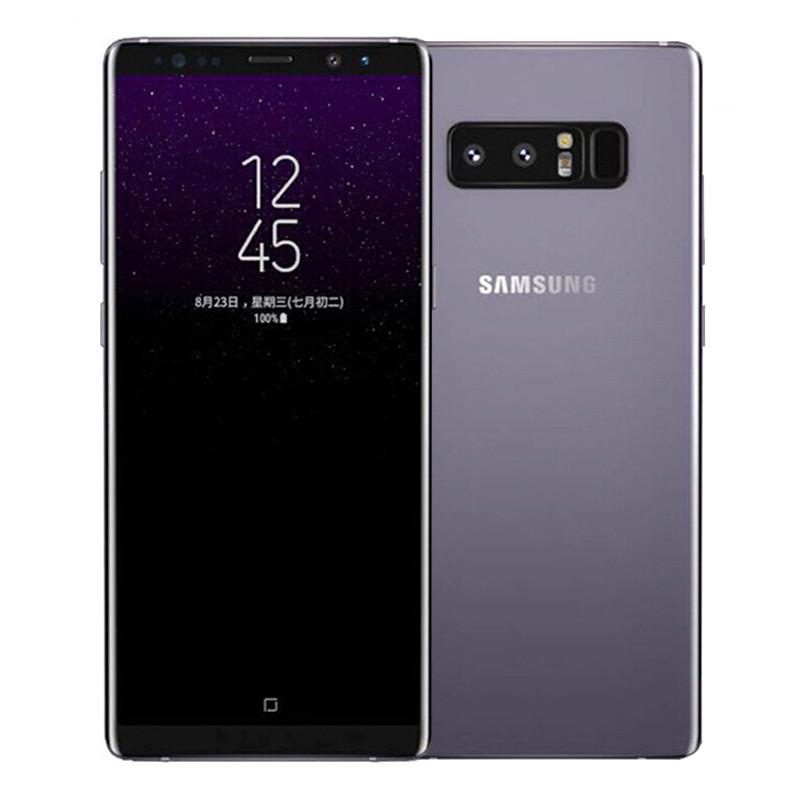phone: (103, 34, 429, 765), (430, 39, 705, 762)
